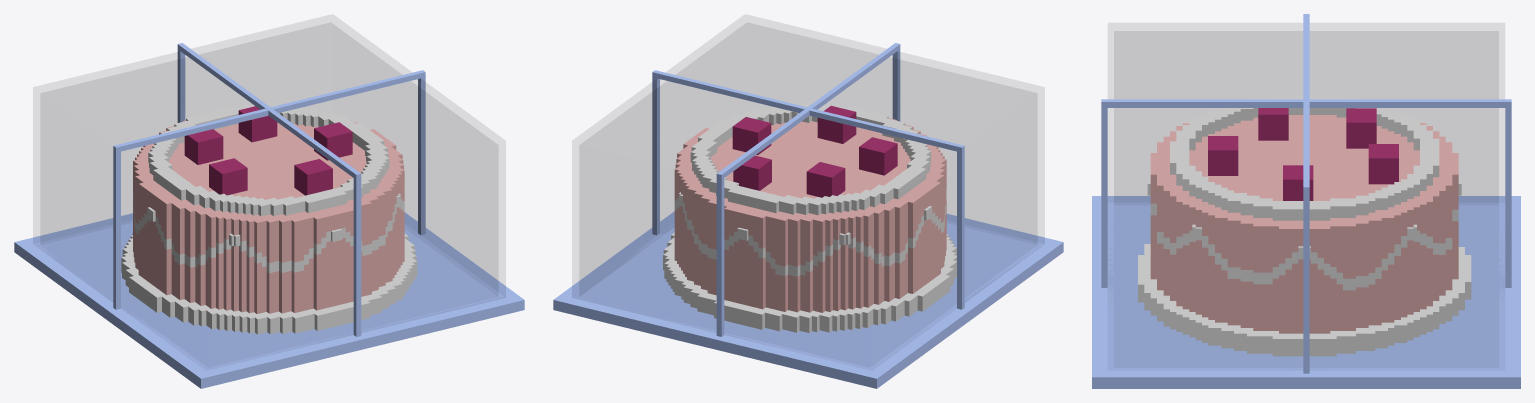
File: cake.fbx
3 views of the same model, side by side, from view 1: azimuth 30°, elevation 25°; view 2: azimuth 150°, elevation 25°; view 3: azimuth 270°, elevation 25° (orthographic). The views are drawn at different scales.
Parts seen in each view (by area): view 1: Object_285, box, FOOD, cream, cherry; view 2: Object_285, box, FOOD, cream, cherry; view 3: FOOD, box, Object_285, cream, cherry.
Boxes of the visible parts, x1,y1,x2,y2 form: Object_285: (40, 22, 498, 295); box: (14, 43, 524, 388); FOOD: (133, 120, 404, 313); cream: (121, 104, 417, 334); cherry: (184, 106, 352, 195); Object_285: (579, 22, 1037, 296); box: (553, 43, 1063, 388); FOOD: (674, 118, 946, 312); cream: (663, 103, 956, 332); cherry: (732, 105, 897, 197); FOOD: (1150, 115, 1458, 333); box: (1092, 14, 1520, 388); Object_285: (1114, 31, 1498, 204); cream: (1138, 95, 1471, 356); cherry: (1208, 108, 1398, 200).
Bounding box in the file's own units: 334 × 170 × 334.
